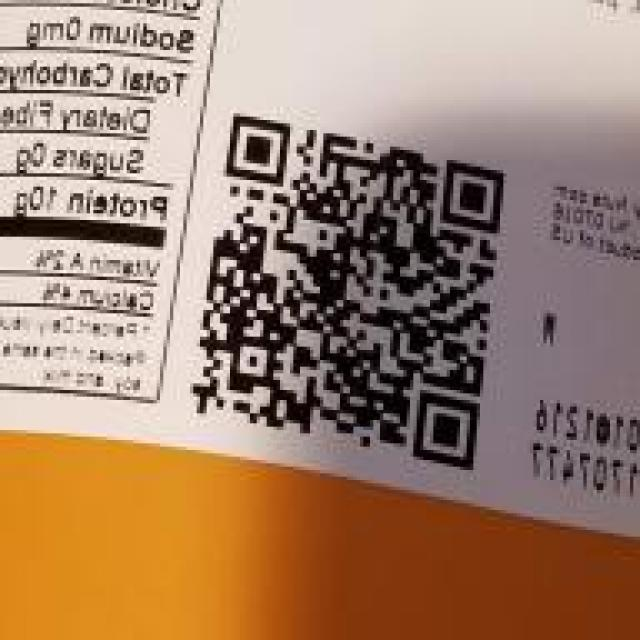qr_code: (190, 112, 506, 469)
